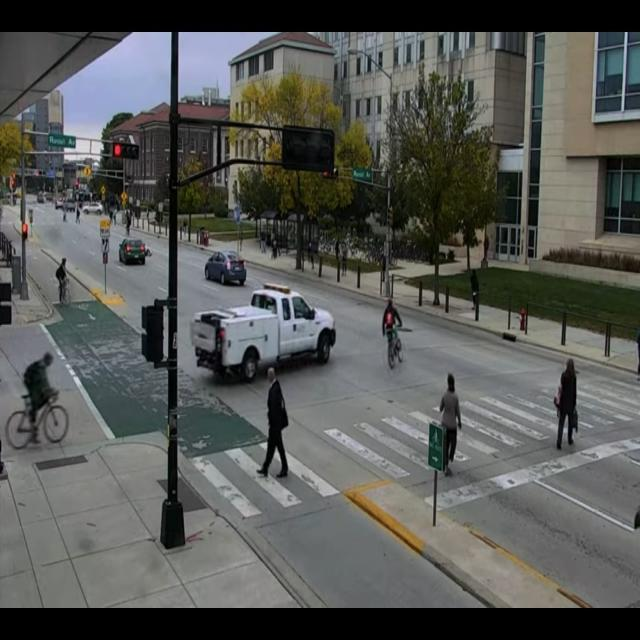Walking: (45, 235, 88, 332)
crossing: (386, 346, 509, 540), (0, 342, 83, 521), (538, 314, 614, 480), (237, 351, 306, 510), (369, 254, 425, 384)
